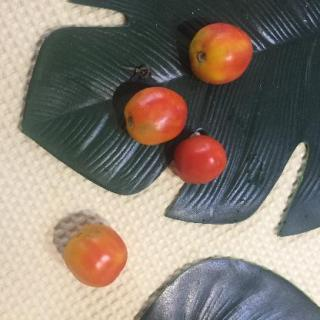Tomat: (59, 223, 135, 293), (180, 24, 260, 87), (122, 83, 190, 149), (170, 131, 230, 187)
